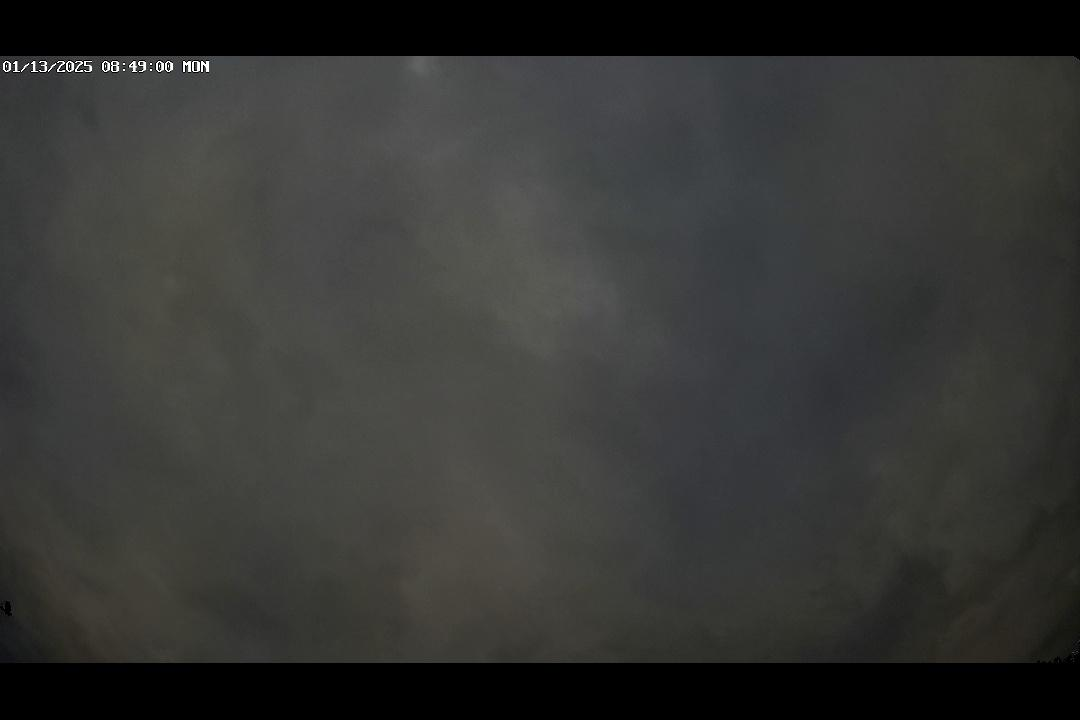WildLife: (0, 592, 43, 627)
